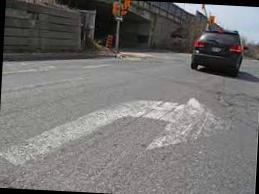faded_road_lines: (0, 88, 237, 177)
